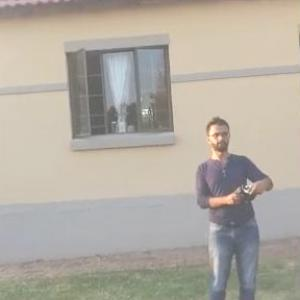follow: (191, 105, 279, 299)
